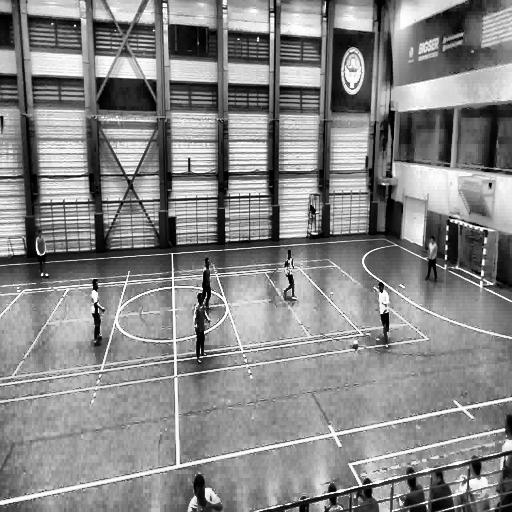ball: (352, 340, 358, 349)
player: (194, 292, 211, 364), (377, 282, 390, 346), (92, 278, 104, 346), (424, 235, 438, 283), (282, 250, 295, 300), (201, 255, 212, 314), (36, 228, 49, 276)
